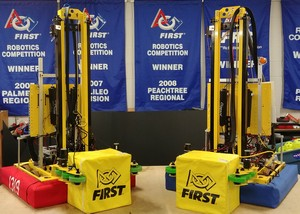cube: (173, 149, 240, 211), (67, 151, 132, 210)
